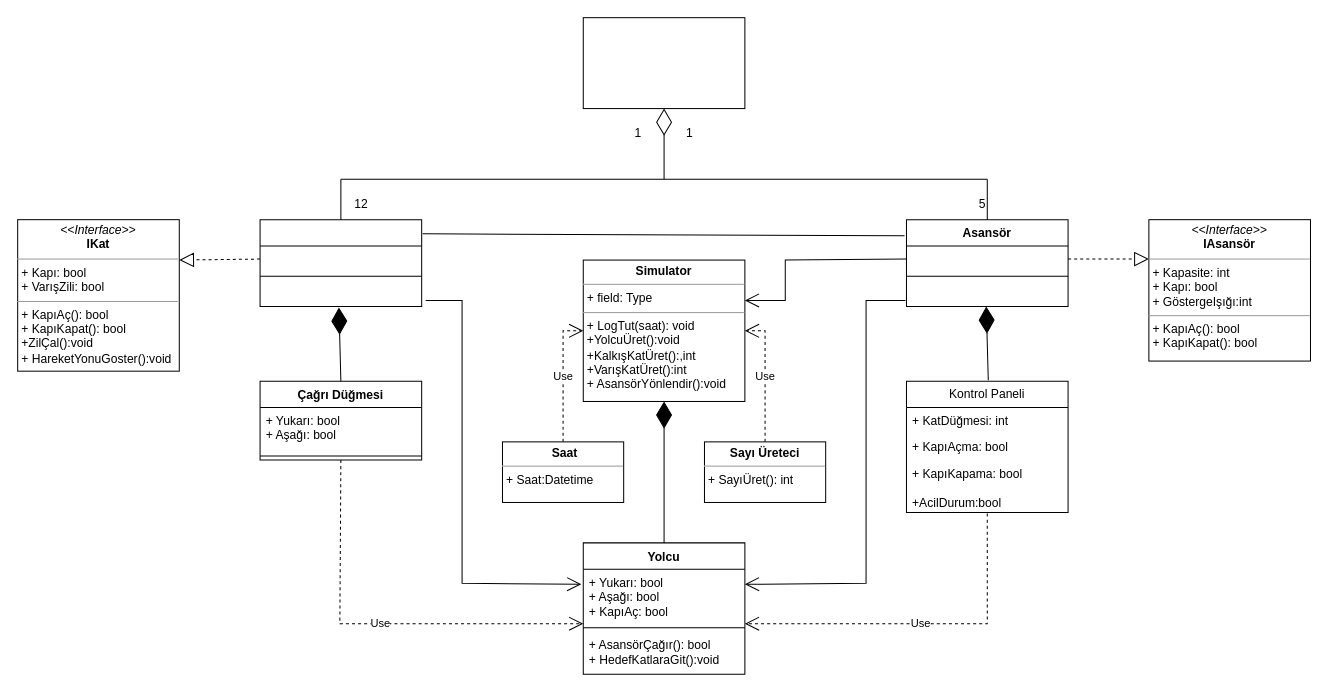
The diagram is 1328 pixels wide and 695 high, and some of its shapes have lost their labels. The centre of each missing label's shape, as x and y in pixels:
"Bina + isim: string" goes at point 663,63.
"Kat" goes at point 340,263.
